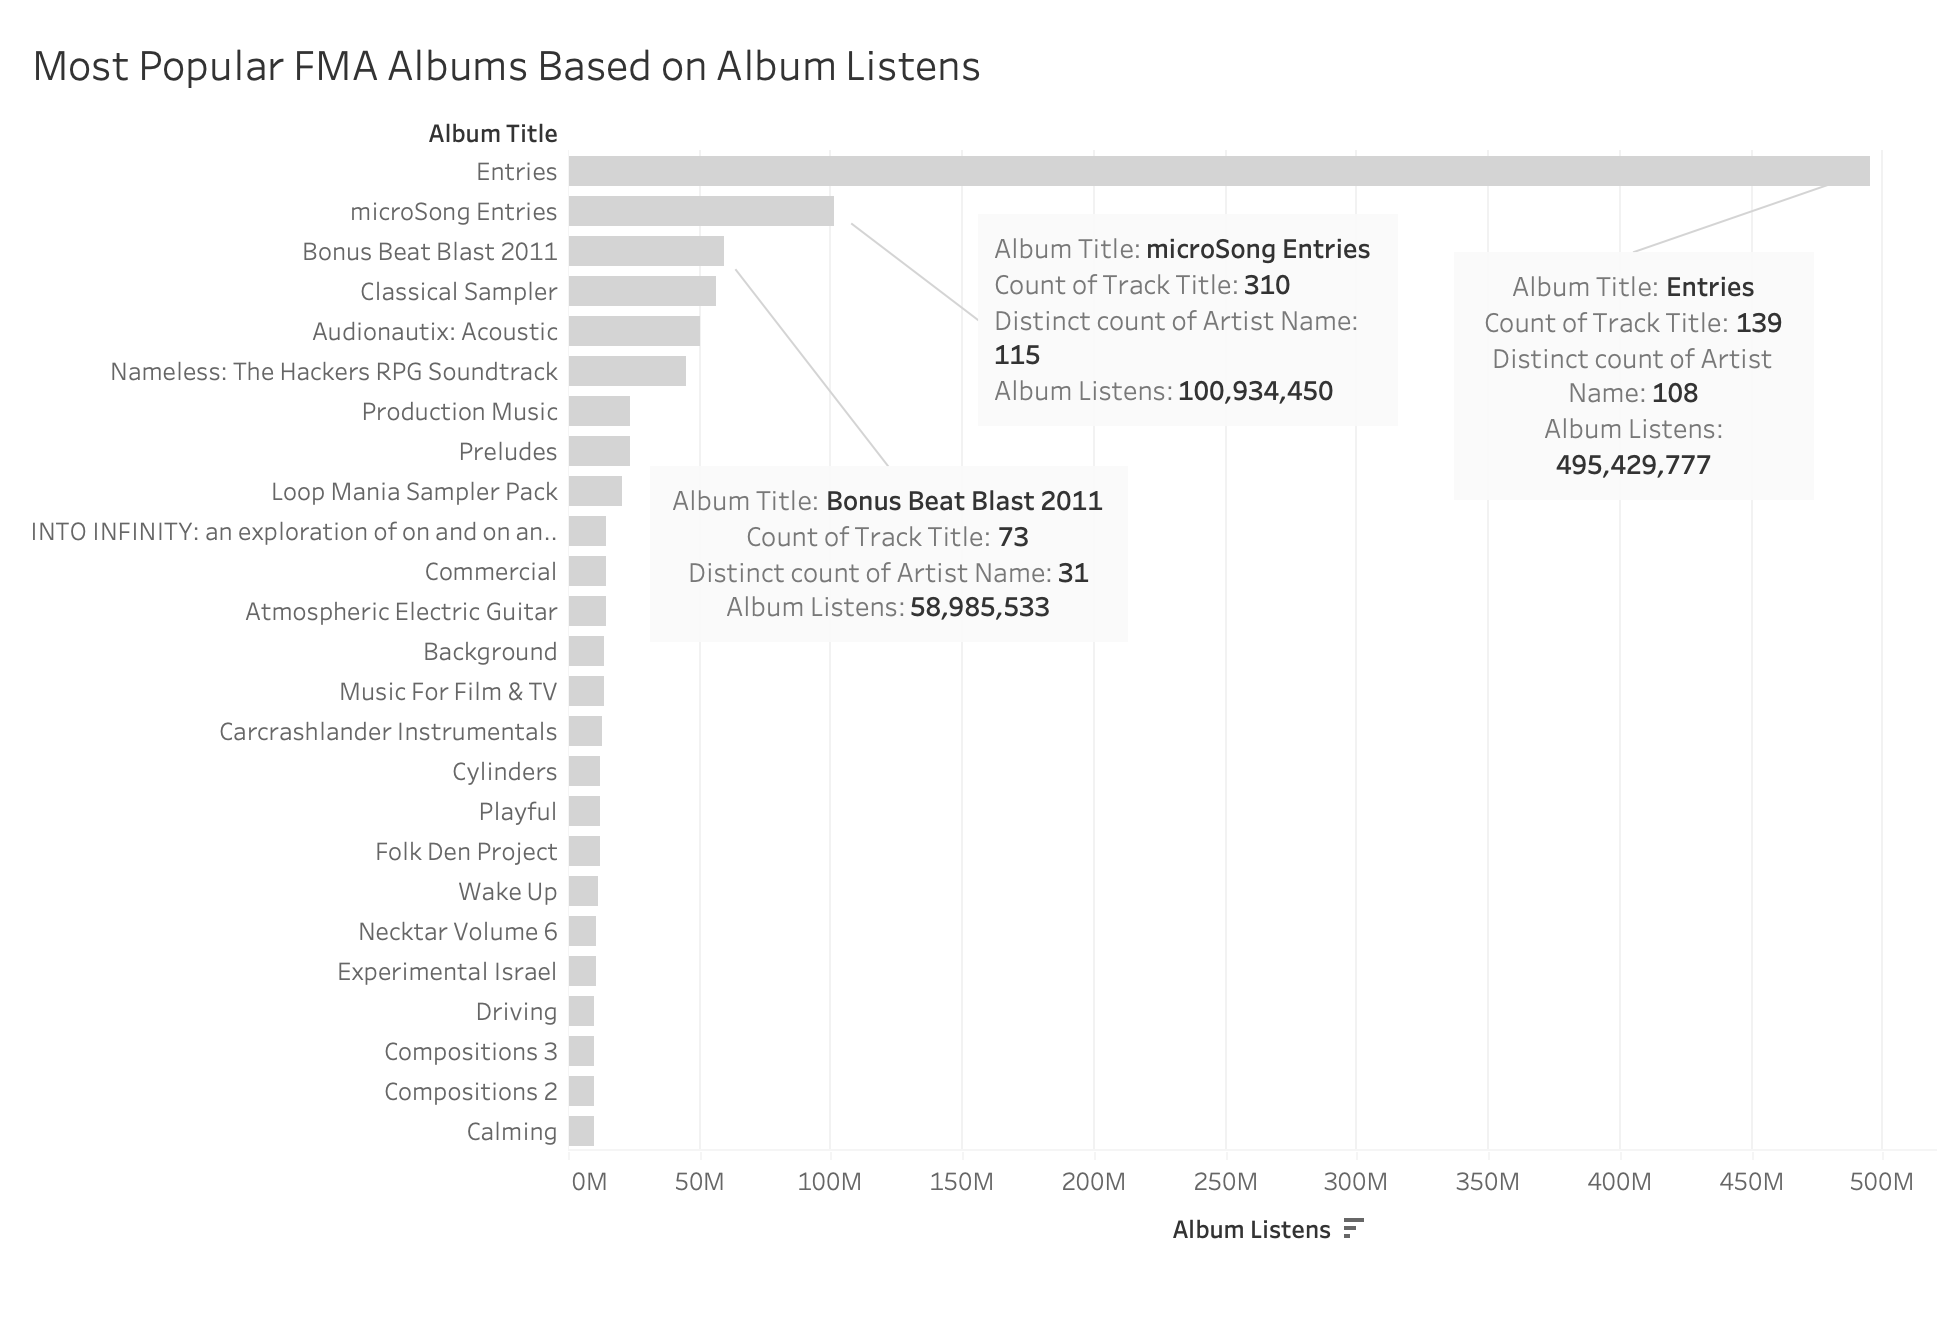

Layout of this report page (visuals, bound fields, positions):
{"tool":"tableau","page":{"name":"Dashboard 1 (2)","canvas":[1600,900],"ordinal":1},"visuals":[{"type":"worksheet","title":"Sheet 1","mark":"Automatic","box":[8,8,1584,884]}]}

Visuals, with their boxes on the page's 1600x900 design canvas (x1, y1, x2, y2). These are canvas units, not pixel positions in the 1960x1318 screenshot, which may show the page scaled, cropped or inside an application window:
"Sheet 1" worksheet: 8, 8, 1592, 892
